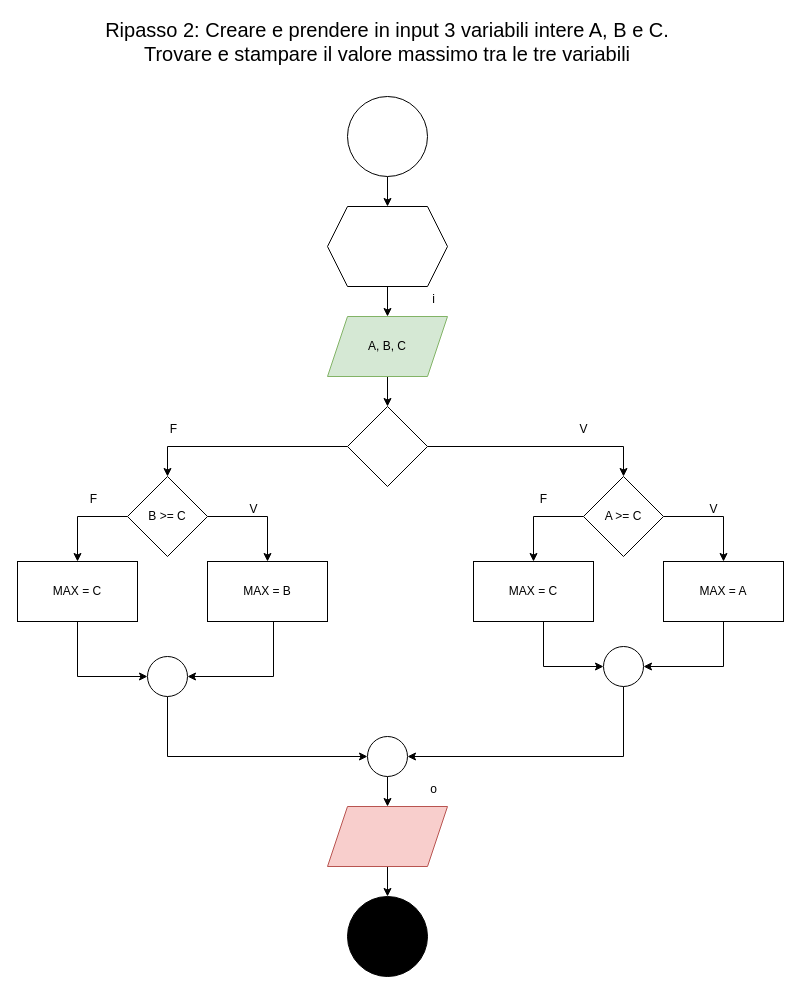
Some shapes in this 801 by 994 pixel diagram are drawn without their labels. The shapes that lost their labels are listed below. From the top down, each one's box as (x1, y1, x2, y2) in pixels, then its label:
(326, 206, 448, 286): A, B, C, MAX
(346, 406, 428, 486): A >= B
(326, 806, 448, 866): MAX
